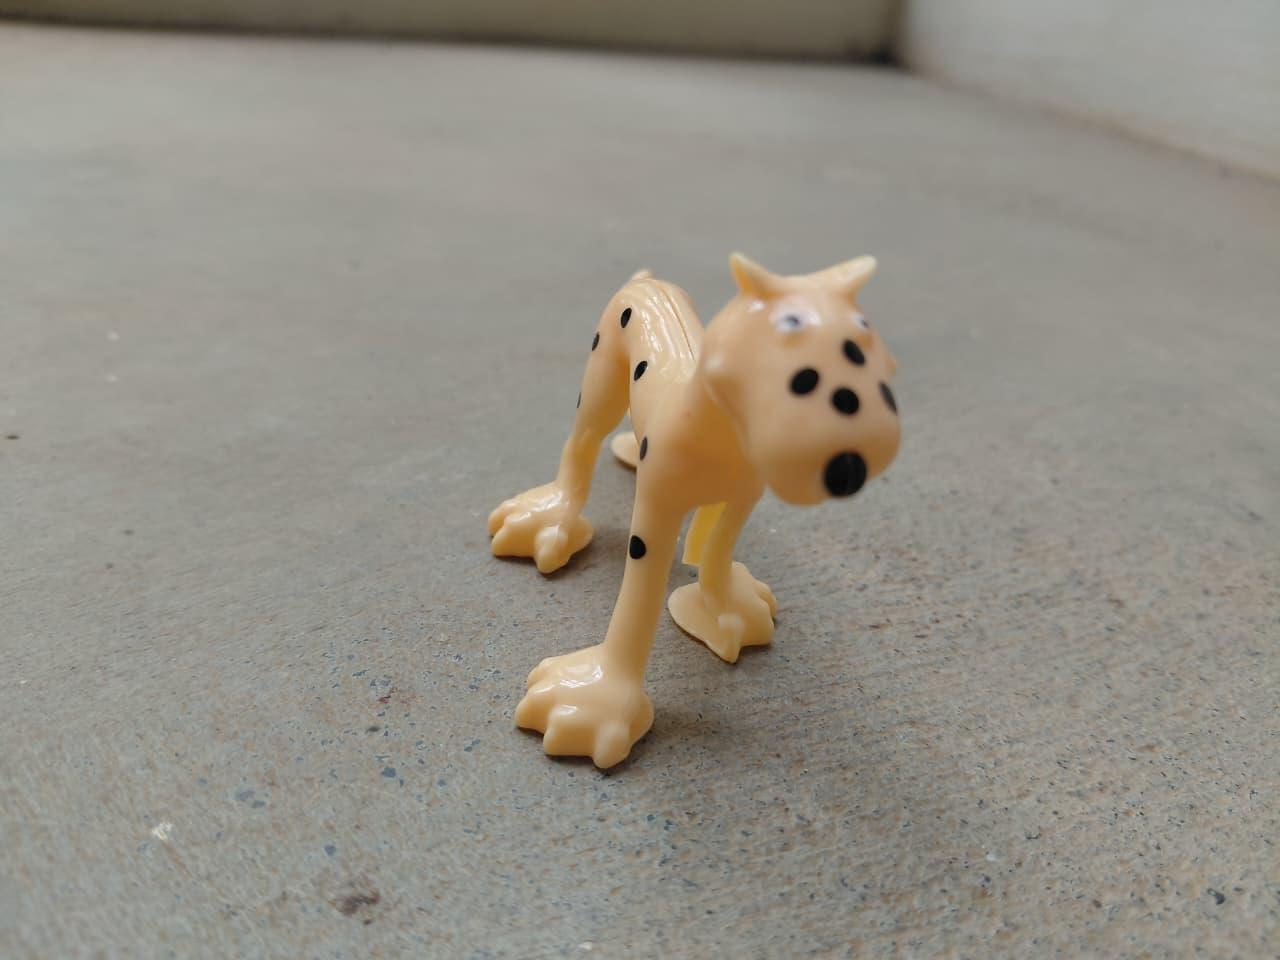cheetah: (480, 229, 906, 775)
